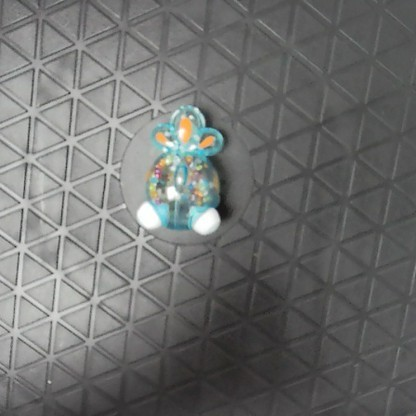bluefish: (134, 106, 226, 238)
